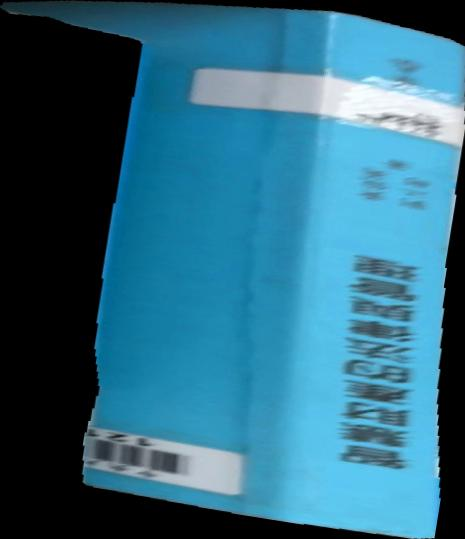reverse: (1, 1, 465, 539)
